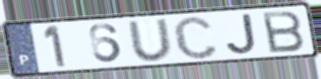1: (42, 24, 70, 70)
6: (87, 23, 124, 65)
B: (259, 9, 306, 54)
C: (171, 14, 220, 61)
J: (224, 12, 259, 56)
U: (125, 16, 176, 63)
